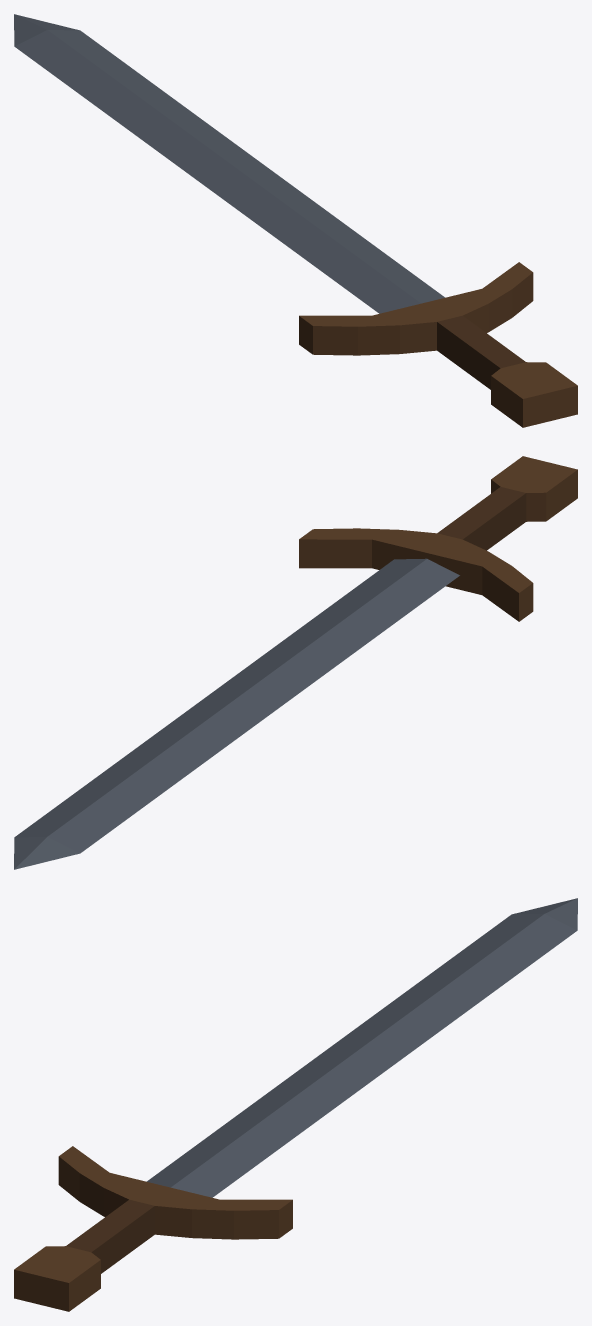
File: Sword_1_Dark_Brown.fbx
The picture shows the model from 3 angles, top to bottom: view 1: azimuth 30°, elevation 25°; view 2: azimuth 150°, elevation 25°; view 3: azimuth 330°, elevation 25°; orthographic projection.
Parts seen in each view (by area): view 1: Sword_1_Dark_Brown; view 2: Sword_1_Dark_Brown; view 3: Sword_1_Dark_Brown.
Boxes of the visible parts, x1,y1,x2,y2 form: Sword_1_Dark_Brown: (14,14,577,427); Sword_1_Dark_Brown: (14,456,577,869); Sword_1_Dark_Brown: (14,898,577,1311).
Size of the model in its own units: 40 by 5 by 169.
